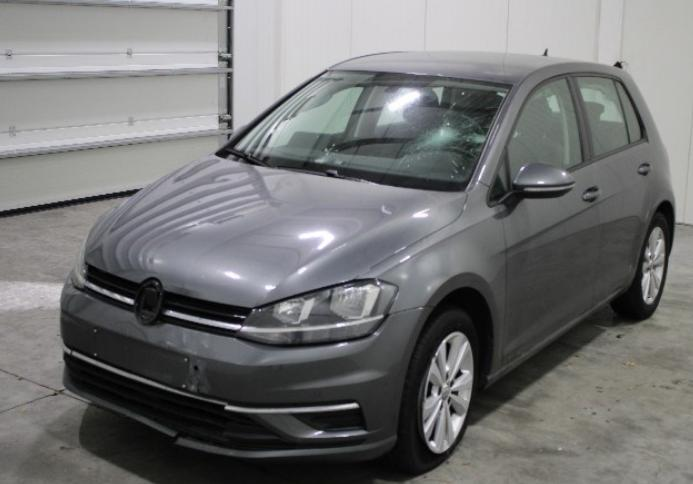Back-door: (570, 73, 655, 305)
Back-wheel: (610, 212, 670, 322)
Back-window: (576, 76, 643, 156)
Fender: (354, 181, 507, 373)
Front-bumper: (60, 271, 434, 462)
Front-door: (491, 73, 602, 365)
Front-wheel: (364, 308, 479, 480)
Front-window: (496, 77, 583, 198)
Grille: (83, 262, 253, 337)
Headlight: (235, 279, 399, 347), (71, 231, 90, 289)
Hood: (85, 152, 467, 308)
Mirror: (498, 162, 576, 212)
Quarter-panel: (626, 132, 674, 287)
Rocker-panel: (483, 282, 630, 389)
Roof: (328, 49, 604, 84)
Windshield: (215, 70, 514, 192)
